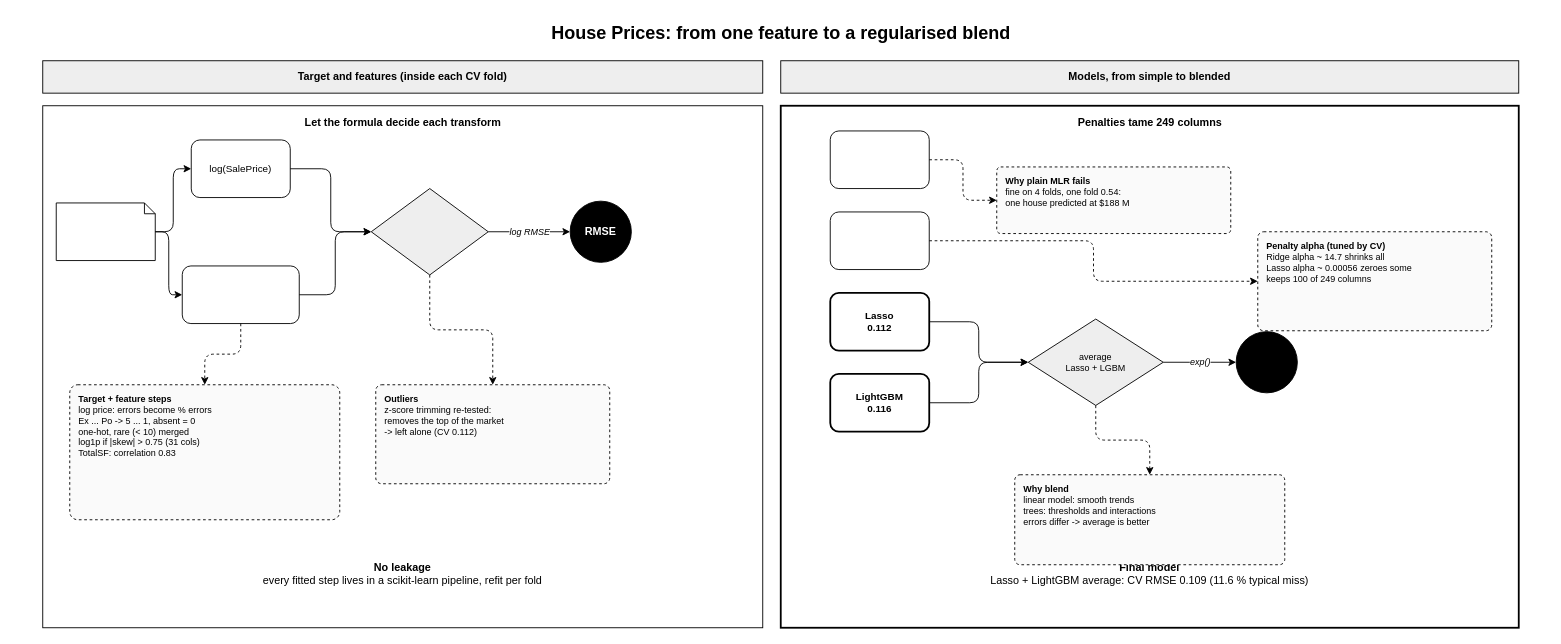
The diagram is 1561 pixels wide and 644 high, and some of its shapes have lost their labels. The centre of each missing label's shape, as x and y in pixels:
"1,460 houses 79 features" goes at point (105, 231).
"Encode + log1p + TotalSF" goes at point (240, 294).
"pipeline 5-fold CV" goes at point (429, 231).
"Plain MLR 0.208" goes at point (879, 159).
"price" goes at point (1266, 362).
"Ridge 0.113" goes at point (879, 240).
